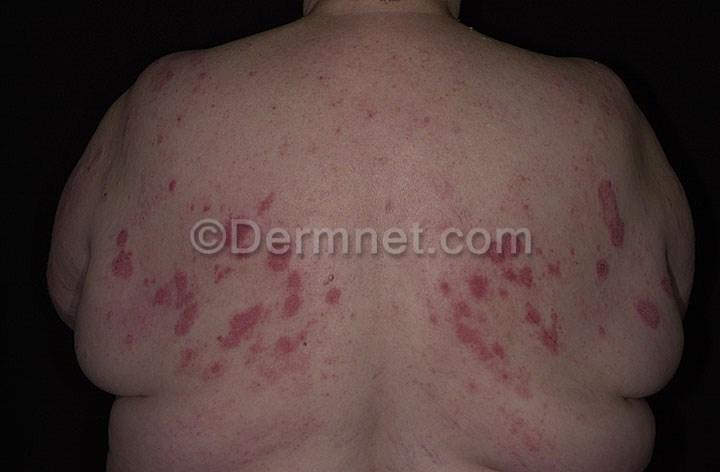Eczema: (401, 204, 585, 412), (145, 210, 359, 388), (573, 145, 671, 290), (90, 208, 174, 296), (619, 288, 679, 347)
